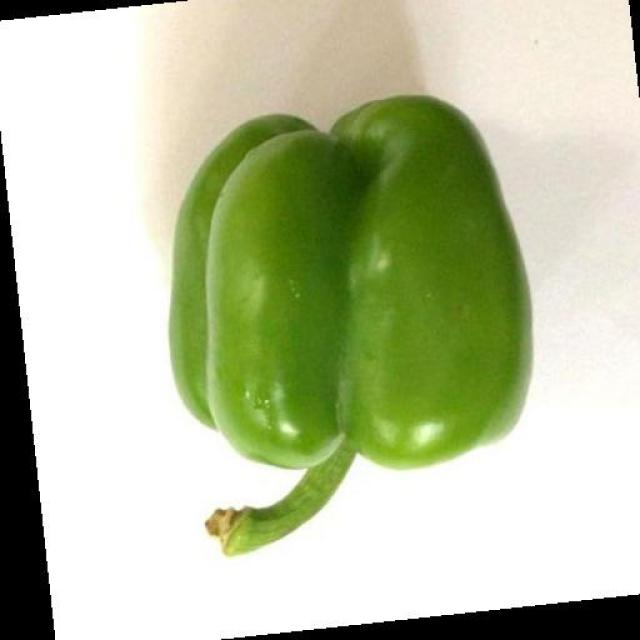Fresh_Capsicum: (157, 82, 538, 562)
